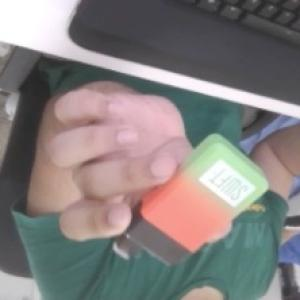Swift-E-Ciggirate: (109, 132, 273, 268)
